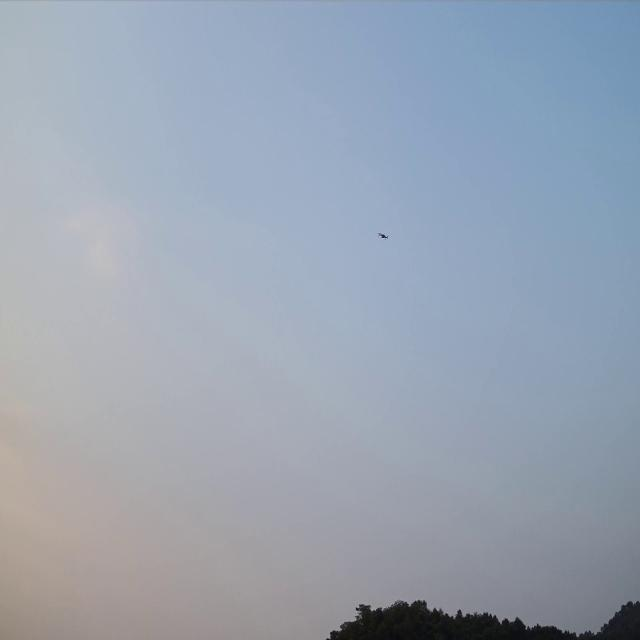UAV: (376, 232, 388, 240)
